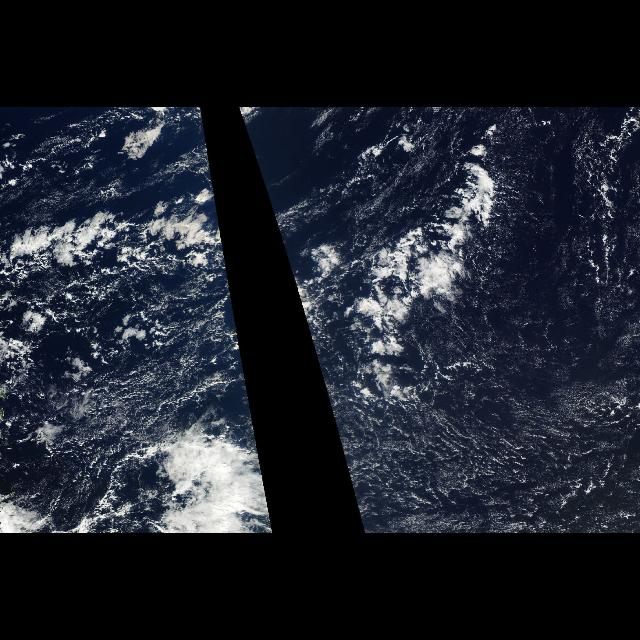Flower: (3, 186, 238, 330)
Gravel: (552, 110, 640, 294), (344, 414, 520, 506)
Sugar: (376, 340, 640, 530)
